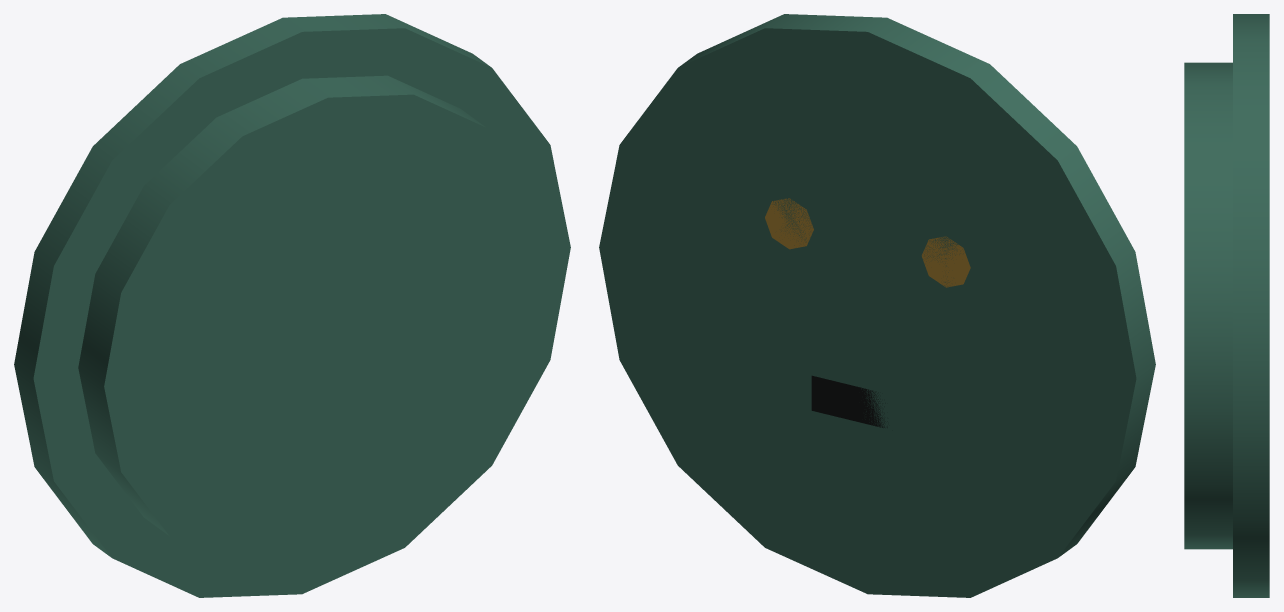
The model's file is h5_flange.obj.
3 views of the same model, side by side, from view 1: azimuth 30°, elevation 25°; view 2: azimuth 150°, elevation 25°; view 3: azimuth 270°, elevation 25° (orthographic). The views are drawn at different scales.
Parts seen in each view (by area): view 1: h5_flange; view 2: h5_flange; view 3: h5_flange.
Part boxes in pixels (left/top/right/bottom): h5_flange: left=14, top=14, right=570, bottom=597; h5_flange: left=599, top=14, right=1155, bottom=597; h5_flange: left=1184, top=14, right=1269, bottom=597.
Bounding box in the file's own units: 1.19 × 1.19 × 0.1734.
